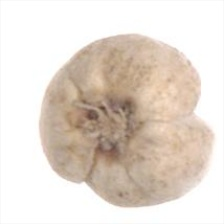L4: (39, 35, 216, 208)
